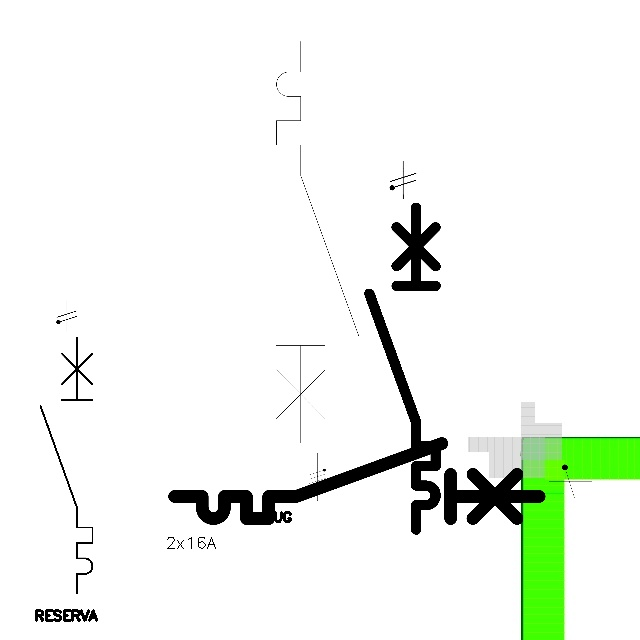interruptor_termomagnetico: (266, 31, 369, 453), (165, 434, 549, 528), (361, 199, 444, 537), (34, 331, 99, 599)
